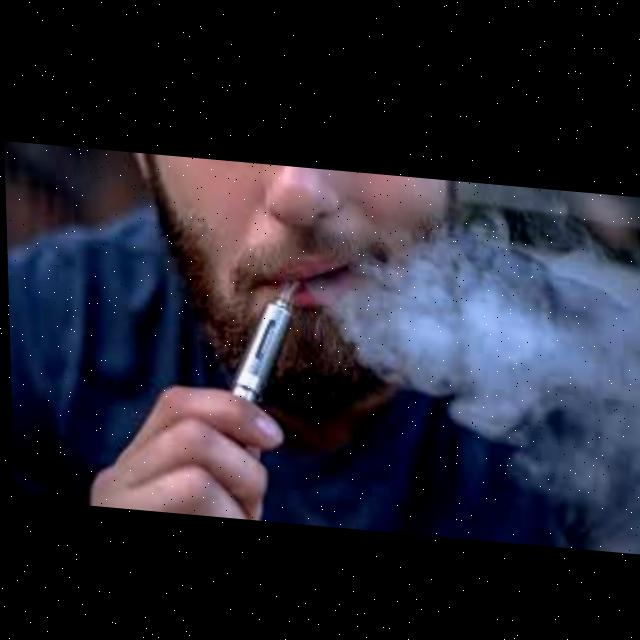vape: (223, 268, 300, 410)
